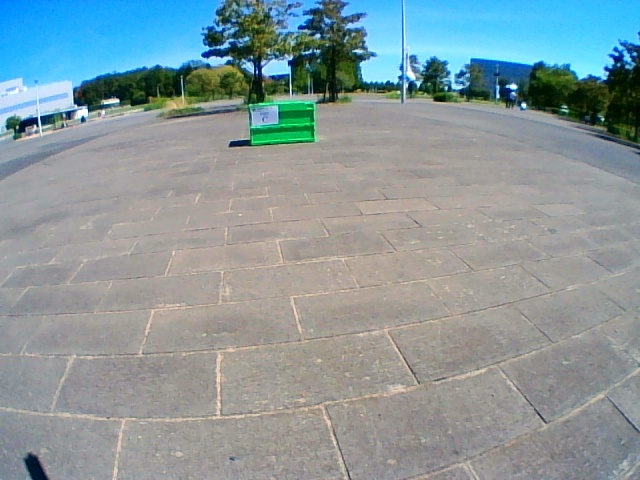green_box: (249, 102, 316, 145)
tag: (252, 107, 278, 125)
